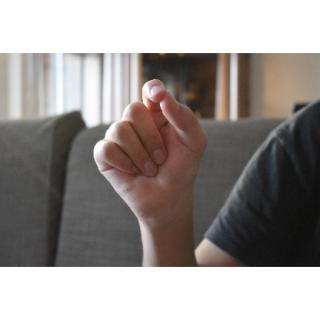FAA: (88, 73, 214, 235)
